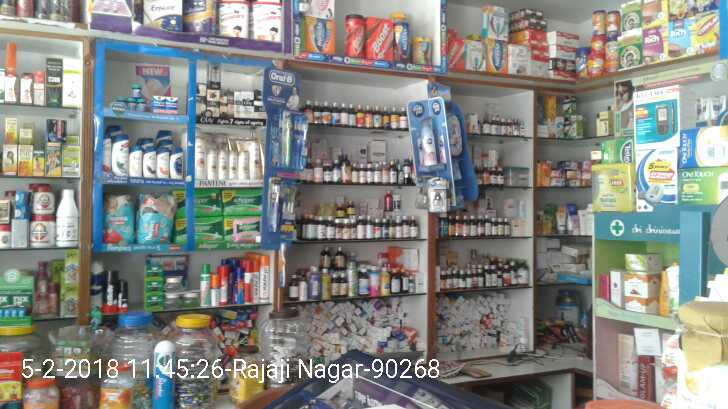beauty: (103, 268, 129, 314), (112, 135, 129, 176), (127, 144, 144, 177), (194, 140, 207, 180), (169, 146, 185, 177), (142, 144, 156, 179), (249, 142, 261, 181), (237, 92, 255, 114), (206, 89, 220, 117), (157, 148, 170, 178), (227, 148, 239, 179), (217, 149, 229, 179), (207, 149, 218, 180), (239, 151, 249, 184)
pharmacy: (137, 194, 175, 247), (102, 198, 137, 245), (176, 187, 222, 220), (175, 221, 226, 246), (222, 189, 260, 216), (294, 114, 310, 173), (279, 107, 294, 169), (229, 213, 259, 242), (281, 183, 297, 233), (271, 182, 282, 235), (152, 94, 167, 113), (130, 84, 145, 99), (166, 98, 179, 115), (136, 99, 147, 113), (129, 98, 136, 110)
